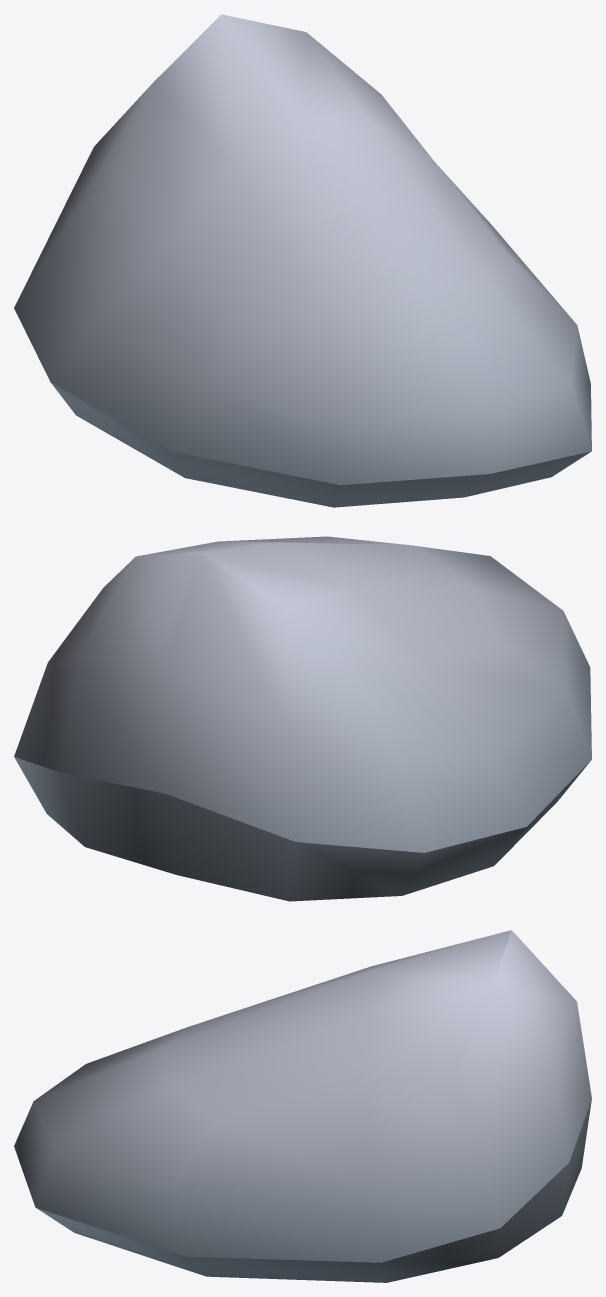
File: snow_4.glb
3 renders of one model, top to bottom at view 1: azimuth 30°, elevation 25°; view 2: azimuth 150°, elevation 25°; view 3: azimuth 270°, elevation 25°, orthographic. The views are drawn at different scales.
Parts seen in each view (by area): view 1: snow_4; view 2: snow_4; view 3: snow_4.
Boxes of the visible parts, x1,y1,x2,y2 form: snow_4: (14, 14, 591, 507); snow_4: (14, 536, 591, 901); snow_4: (14, 930, 591, 1282).
Bounding box in the file's own units: 3.64 × 2.46 × 4.51.
1 material, 1 textured.
